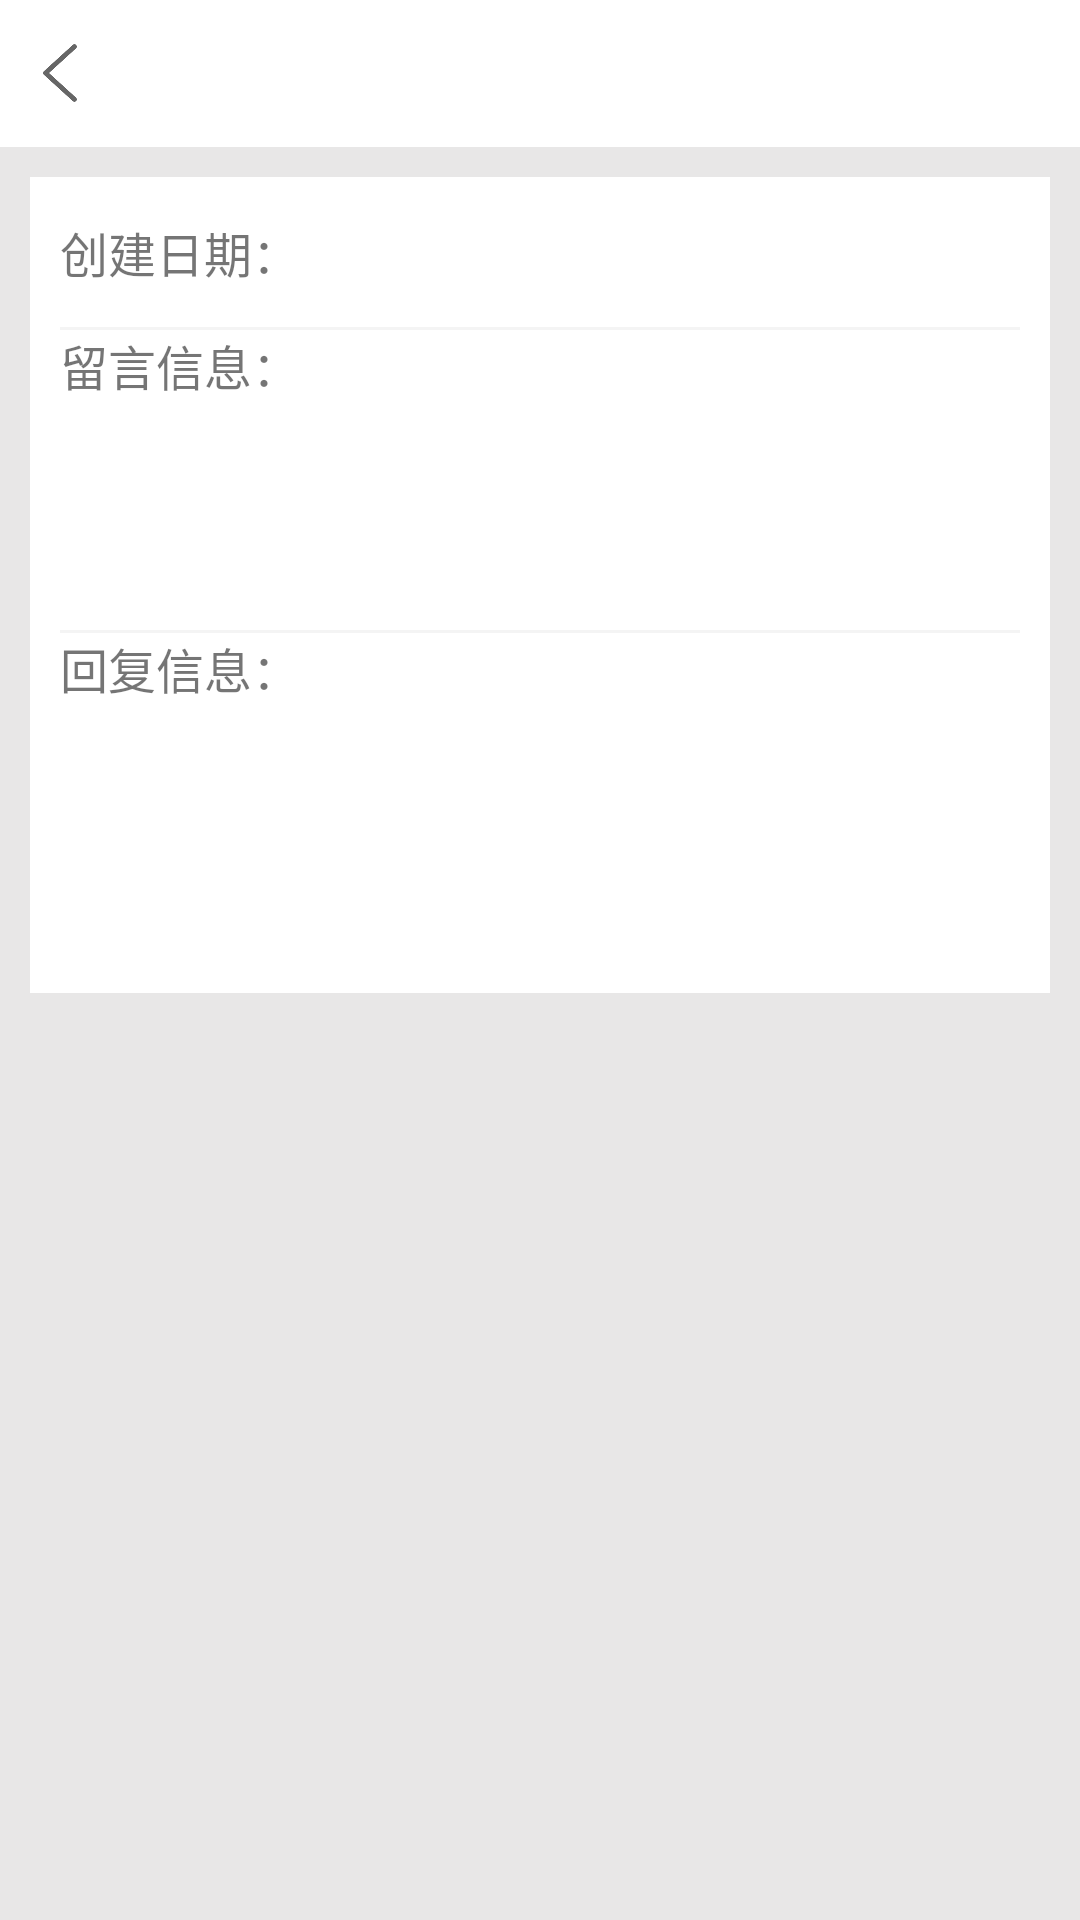

Icon bounding boxes for this 1080 × 1920 phone screenshot, format BBox(x1, y1, x2, y2):
back: BBox(43, 44, 77, 102)
